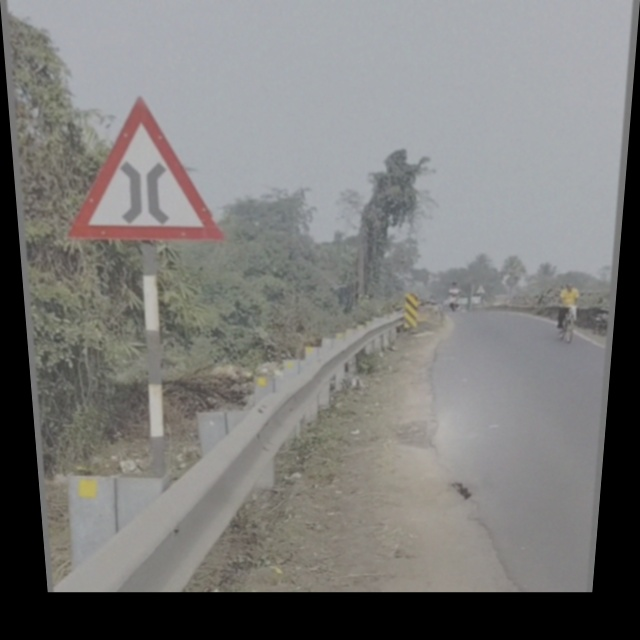Narrow_Bridge: (66, 100, 218, 236)
